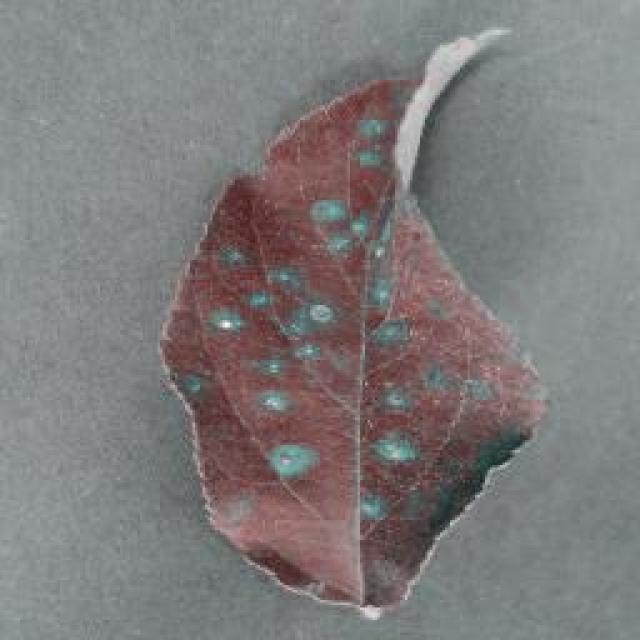apple healthy: (155, 25, 550, 615)
